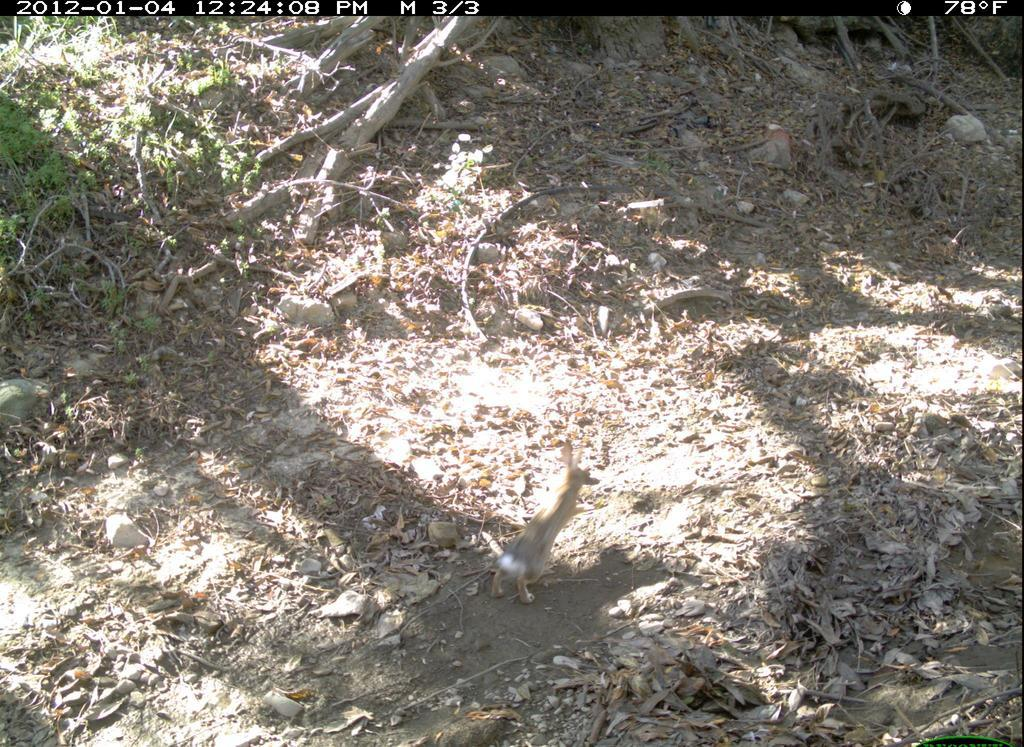rabbit: (474, 438, 632, 614)
